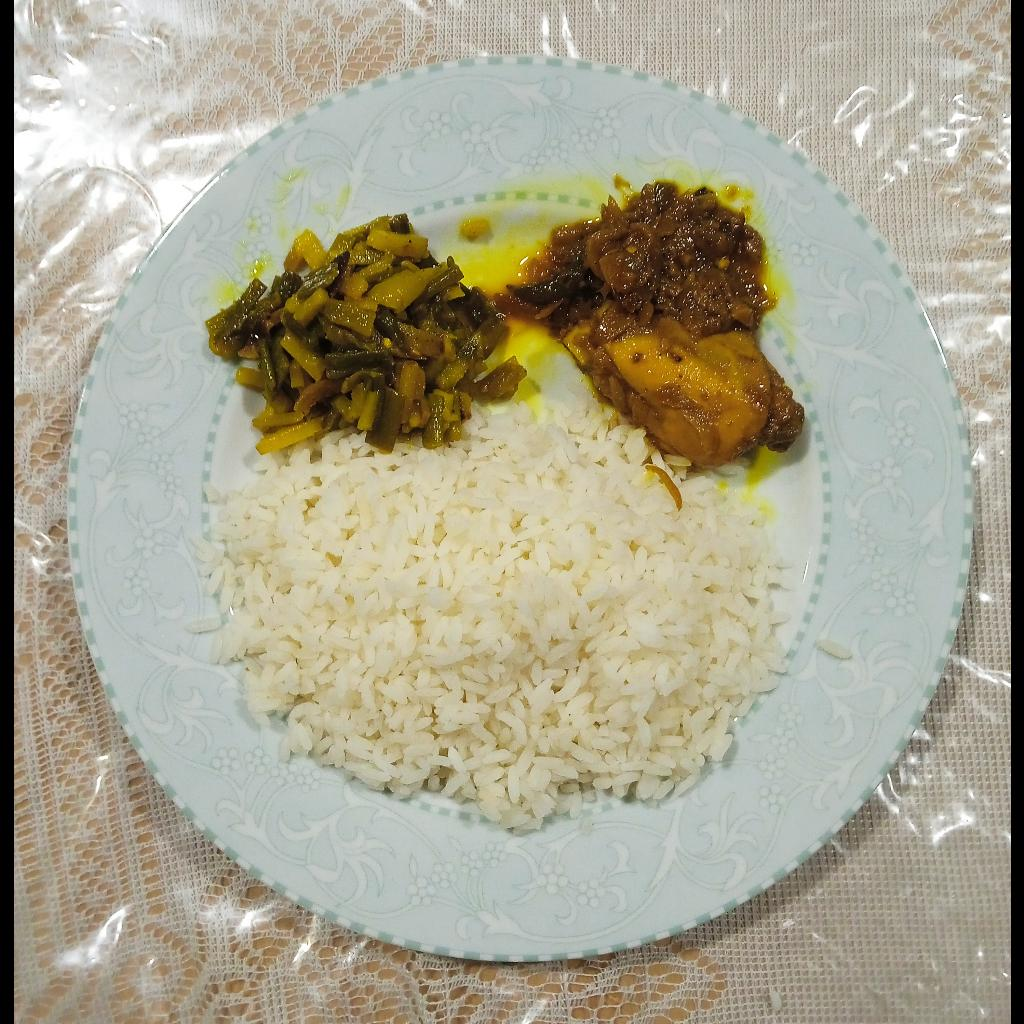chicken: (558, 271, 809, 473)
rice: (187, 411, 802, 839)
vegetable: (195, 211, 522, 463)
